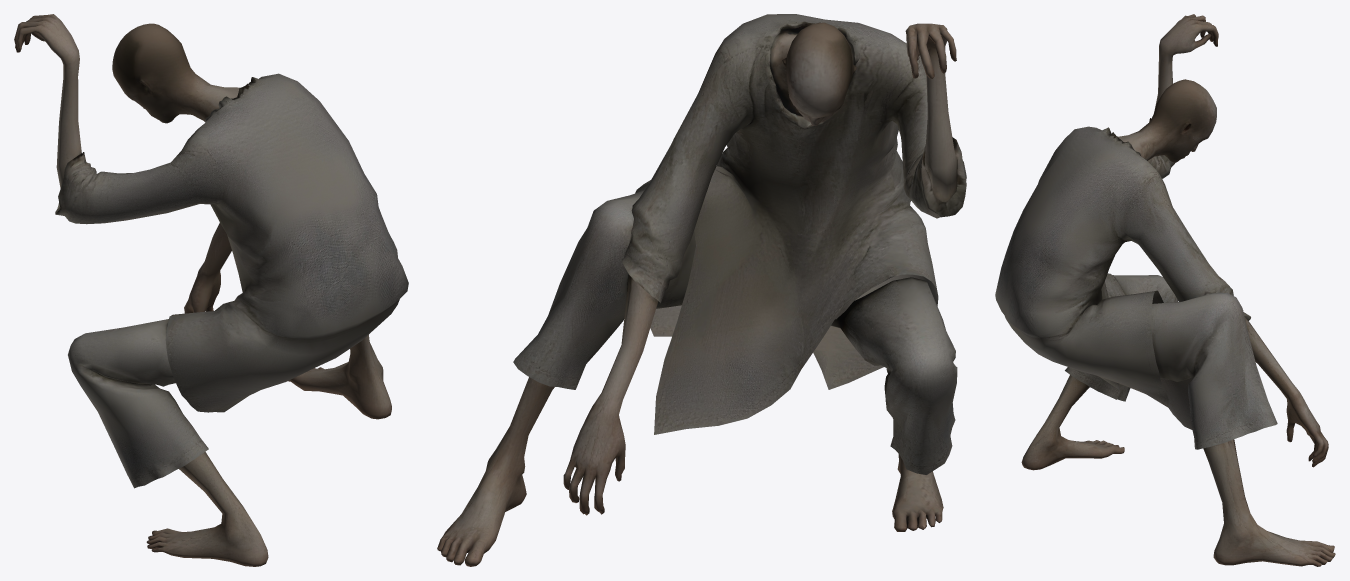
File: folded-lintel-figure-a-v01.glb
3 renders of one model, left to right at view 1: azimuth 30°, elevation 25°; view 2: azimuth 150°, elevation 25°; view 3: azimuth 270°, elevation 25°, orthographic. The views are drawn at different scales.
Visible parts, largest first — view 1: tripo_node_f086a438-8eb5-4383-816c-3bd7c6a29e64; view 2: tripo_node_f086a438-8eb5-4383-816c-3bd7c6a29e64; view 3: tripo_node_f086a438-8eb5-4383-816c-3bd7c6a29e64.
Boxes of the visible parts, <box> form: tripo_node_f086a438-8eb5-4383-816c-3bd7c6a29e64: <box>14,14,408,566</box>; tripo_node_f086a438-8eb5-4383-816c-3bd7c6a29e64: <box>437,14,966,566</box>; tripo_node_f086a438-8eb5-4383-816c-3bd7c6a29e64: <box>995,14,1335,566</box>.
Bounding box in the file's own units: 1.1 × 1.35 × 1.02.
Materials: 1 (1 with a texture image).
